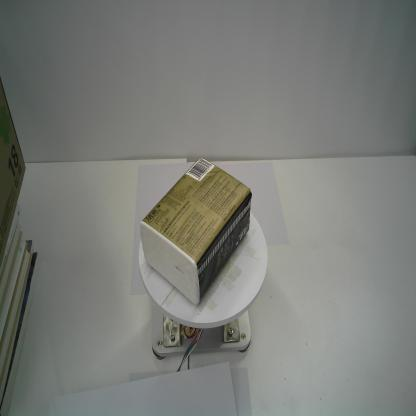Tissue: (138, 157, 251, 308)
